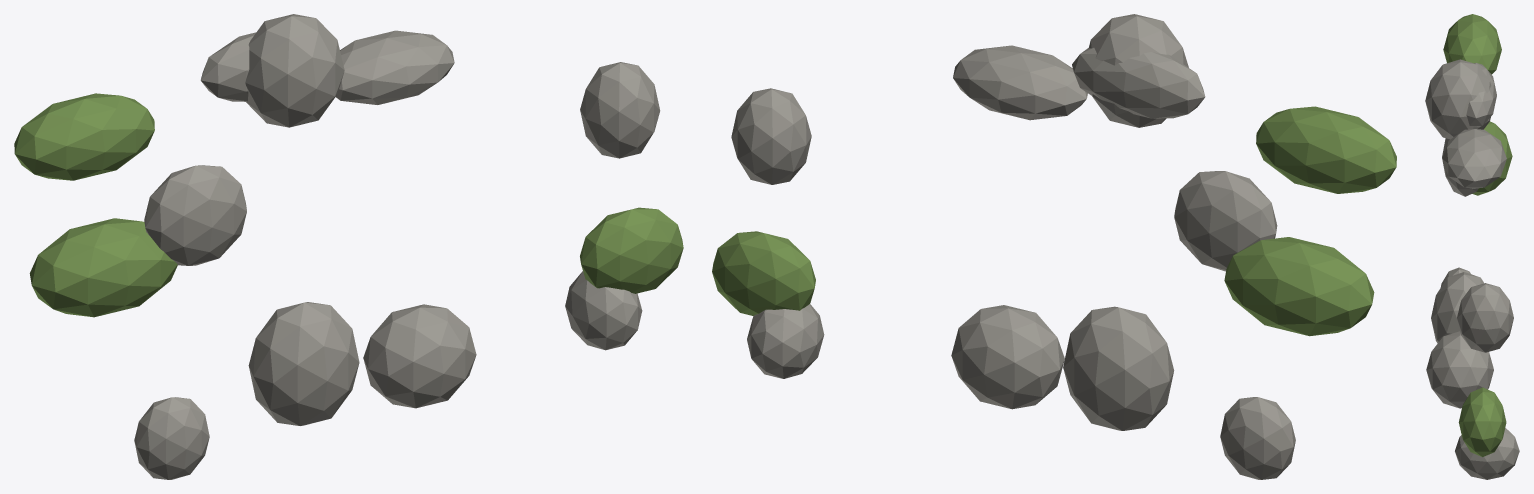
File: small_stones.glb
3 views of the same model, side by side, from view 1: azimuth 30°, elevation 25°; view 2: azimuth 150°, elevation 25°; view 3: azimuth 270°, elevation 25° (orthographic). The views are drawn at different scales.
Parts seen in each view (by area): view 1: world; view 2: world; view 3: world.
Boxes of the visible parts, x1,y1,x2,y2 form: world: (14, 14, 683, 479); world: (712, 14, 1396, 479); world: (1425, 14, 1519, 479).
Size of the model in its own units: 1.56 by 0.96 by 0.2675.
